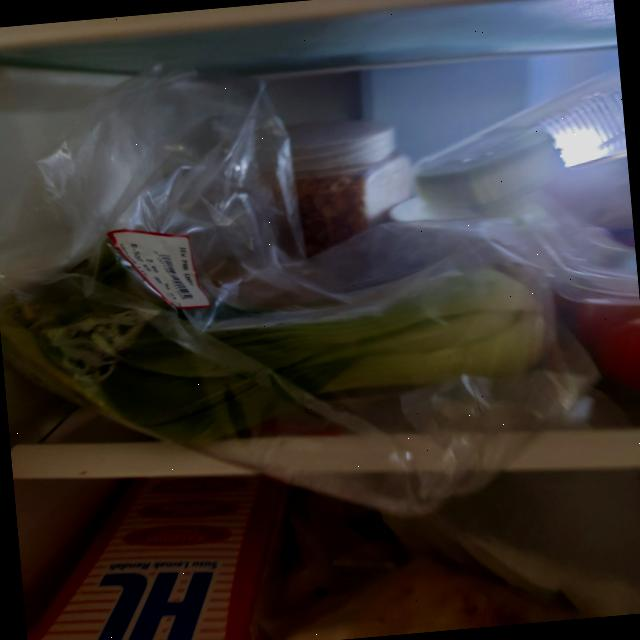pakchoy: (0, 216, 554, 463)
